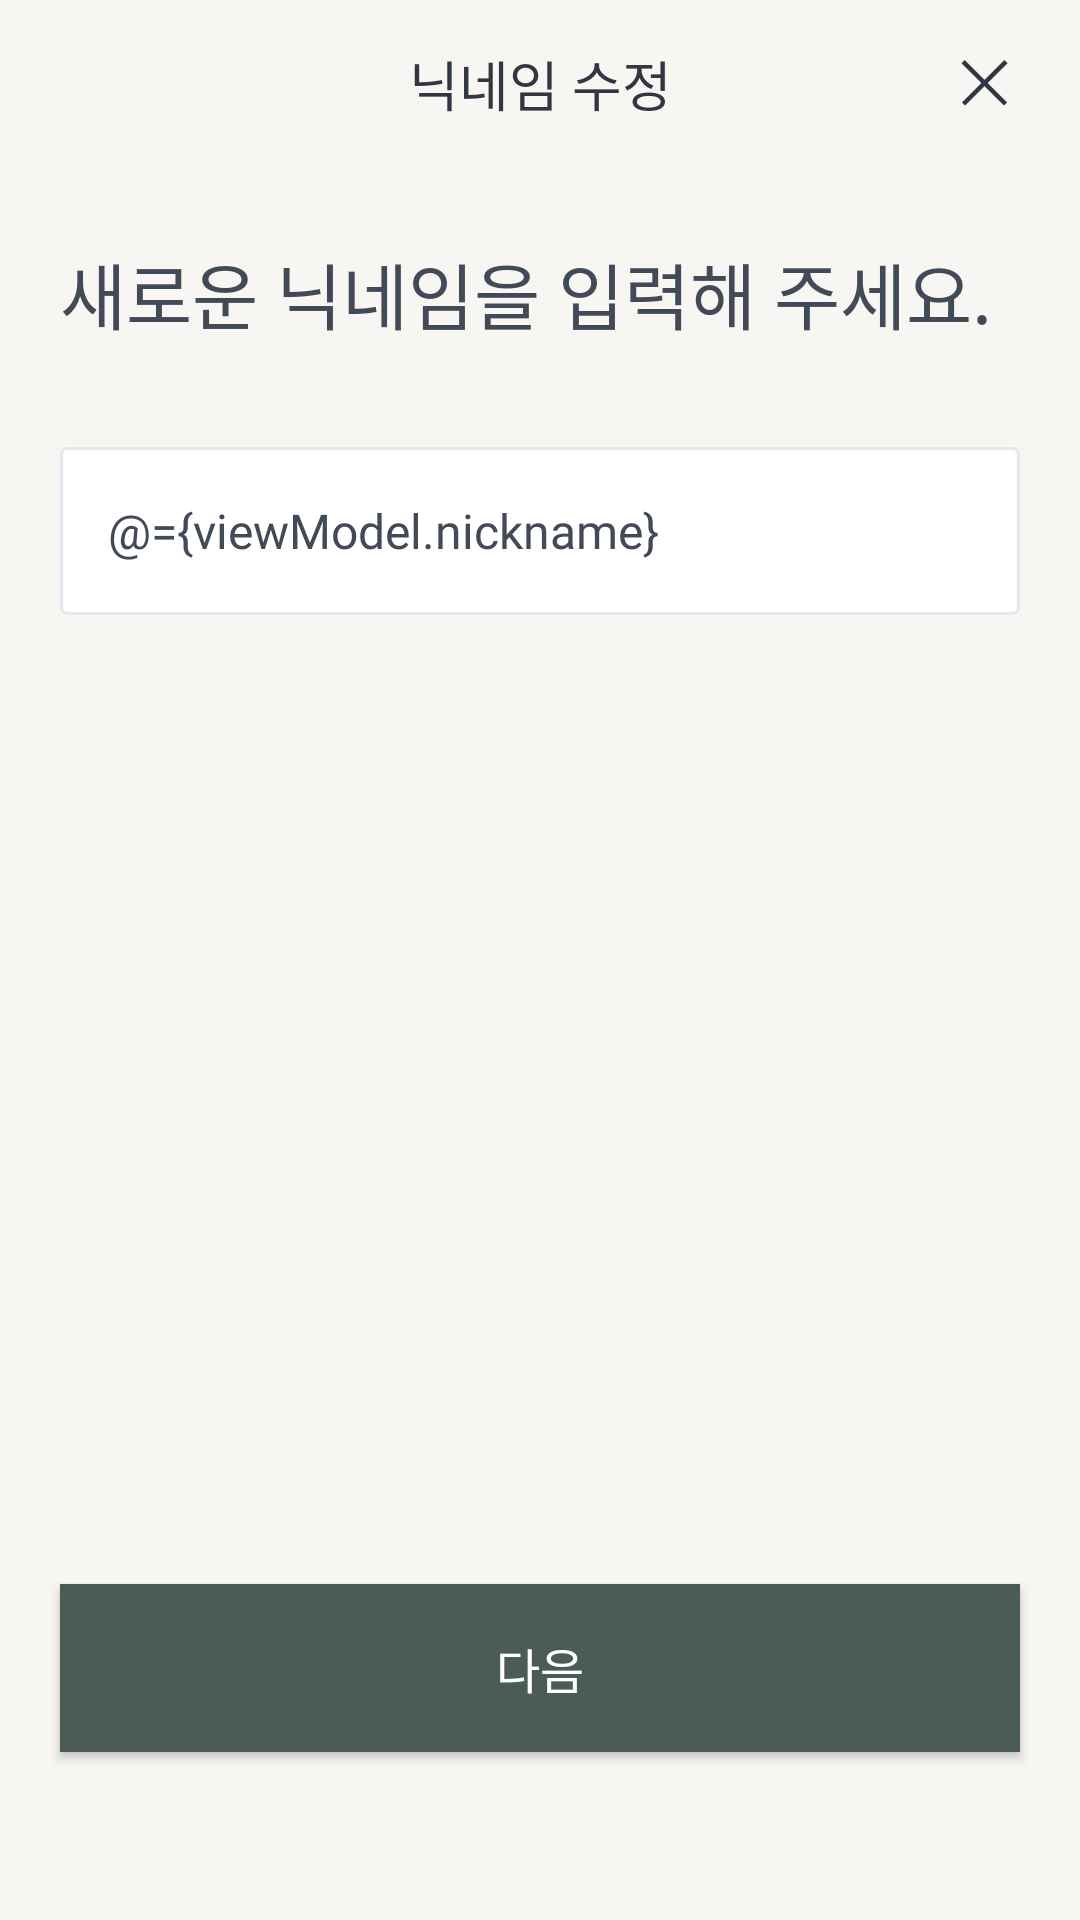

Screen size 1080 × 1920. Icon name, then its center in pixels as (x,y):
close: (984,83)
